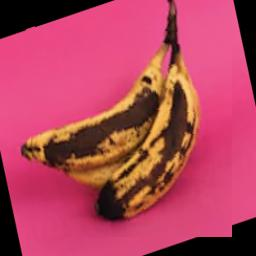Banana Rotten: (26, 24, 232, 238)
